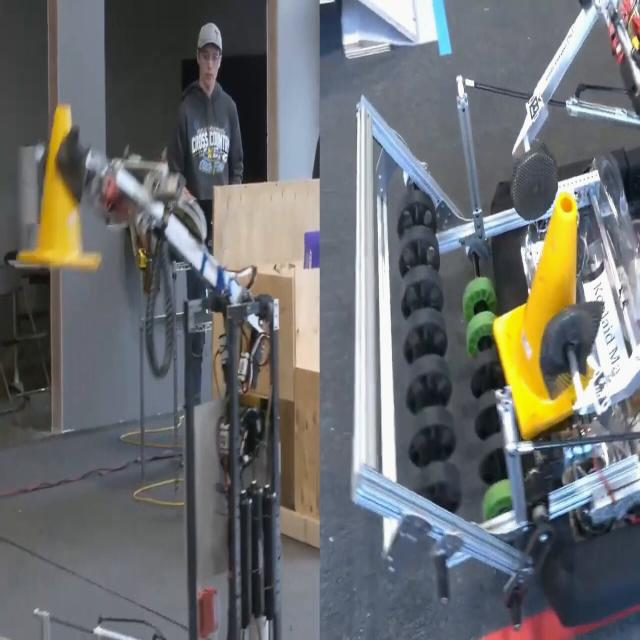frc_cone: (500, 191, 584, 425), (28, 104, 96, 269)
frc_cube: (301, 222, 319, 277)
